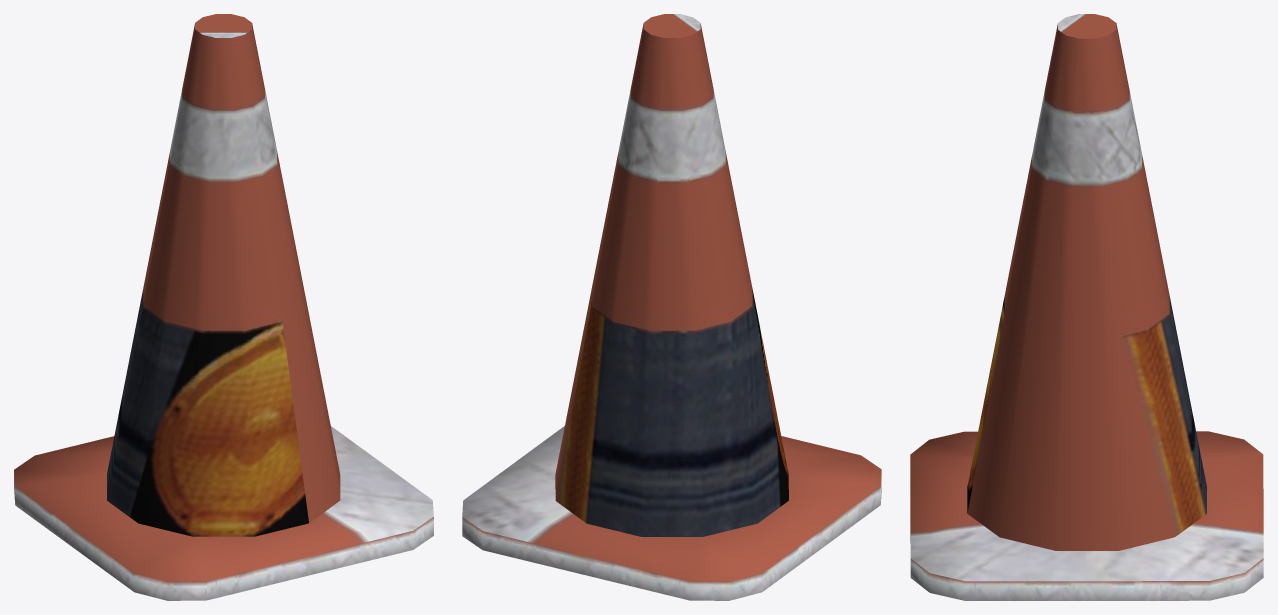
The model's file is defaulttrafficcone.glb.
The picture shows the model from 3 angles, left to right: view 1: azimuth 30°, elevation 25°; view 2: azimuth 150°, elevation 25°; view 3: azimuth 270°, elevation 25°; orthographic projection. The views are drawn at different scales.
Visible parts, largest first — view 1: DefaultTrafficCone; view 2: DefaultTrafficCone; view 3: DefaultTrafficCone.
Boxes of the visible parts, x1=… form: DefaultTrafficCone: x1=14, y1=14, x2=433, y2=600; DefaultTrafficCone: x1=462, y1=14, x2=881, y2=600; DefaultTrafficCone: x1=910, y1=14, x2=1263, y2=600.
Bounding box in the file's own units: 0.5121 × 0.796 × 0.5106.
Materials: 1 (1 with a texture image).
